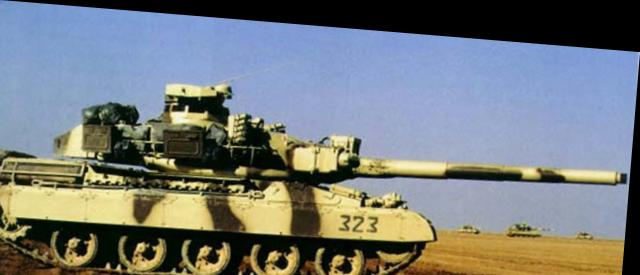tank: (0, 61, 450, 274)
